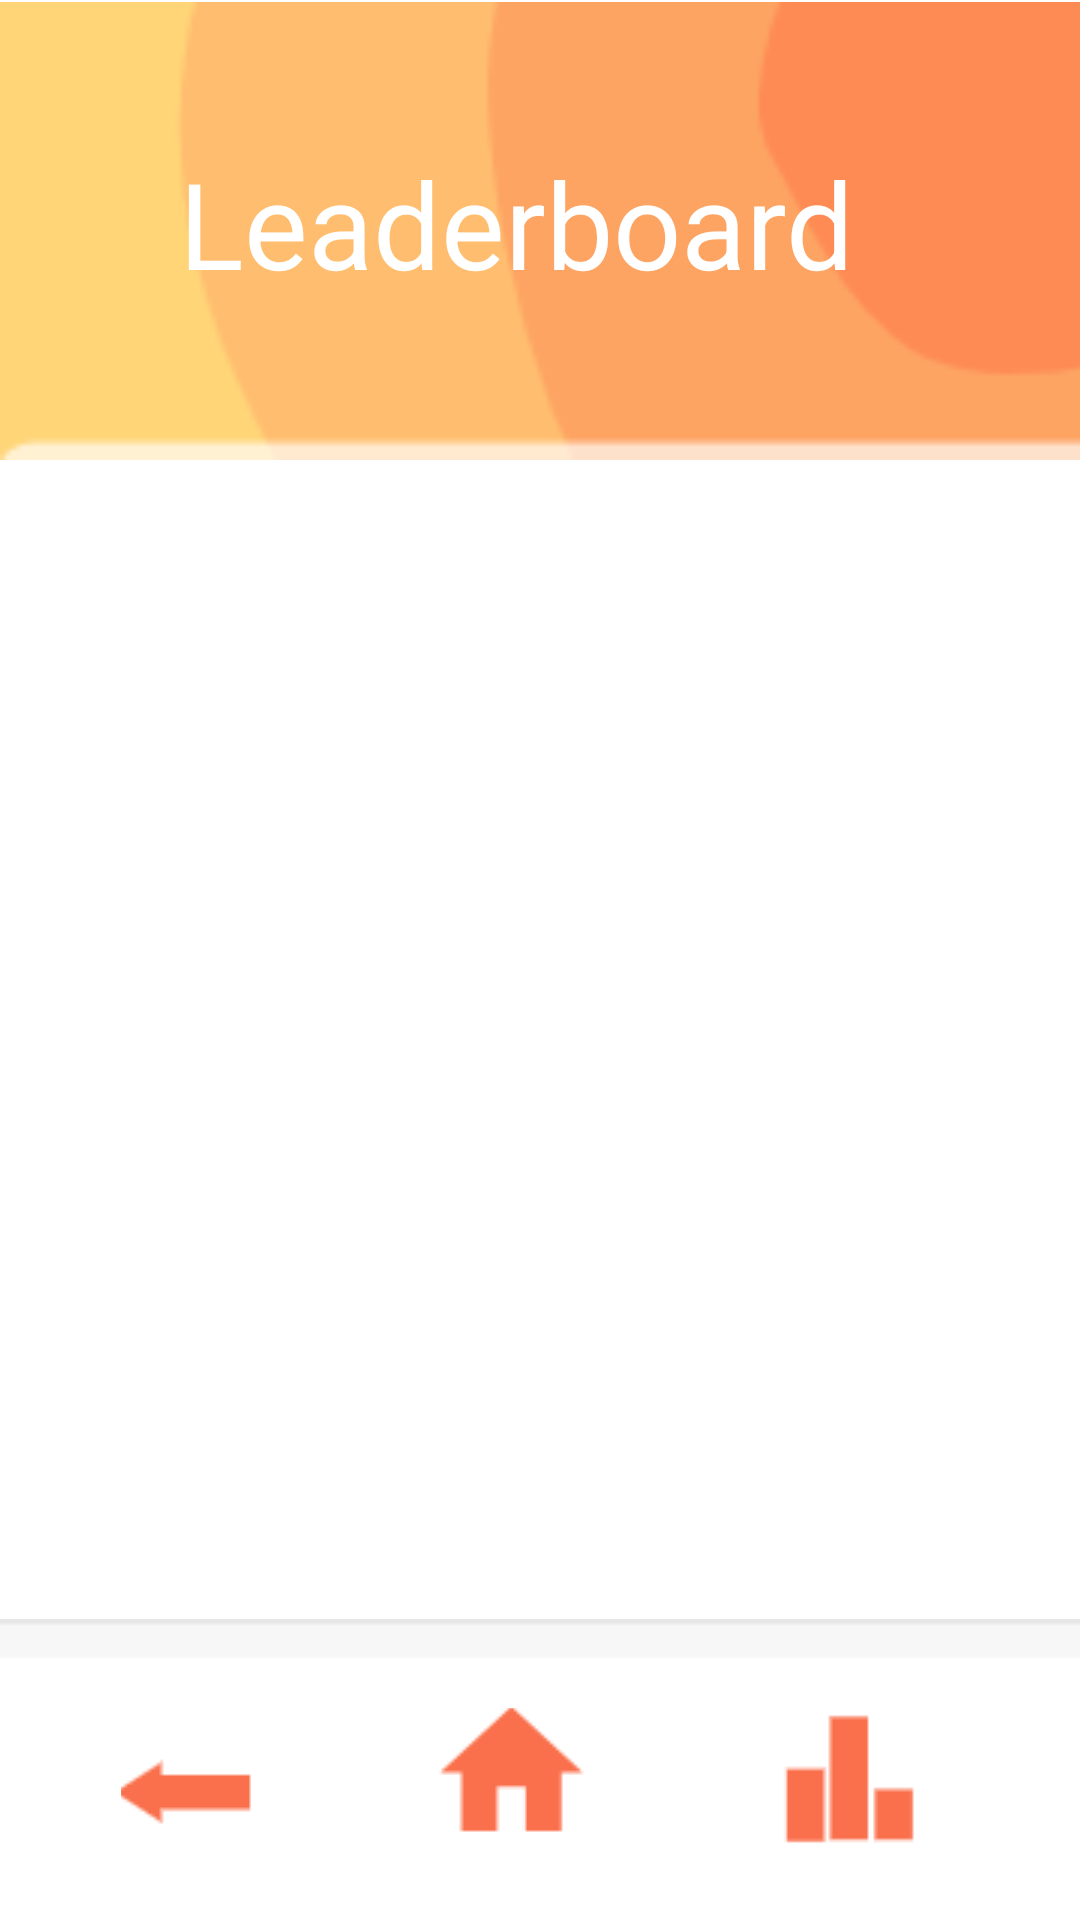

Icon bounding boxes for this 1080px x 1920px phone screenshot, format detection(x1, y1, x2, y2):
home: detection(441, 1708, 583, 1832)
leaderboard: detection(786, 1715, 914, 1843)
